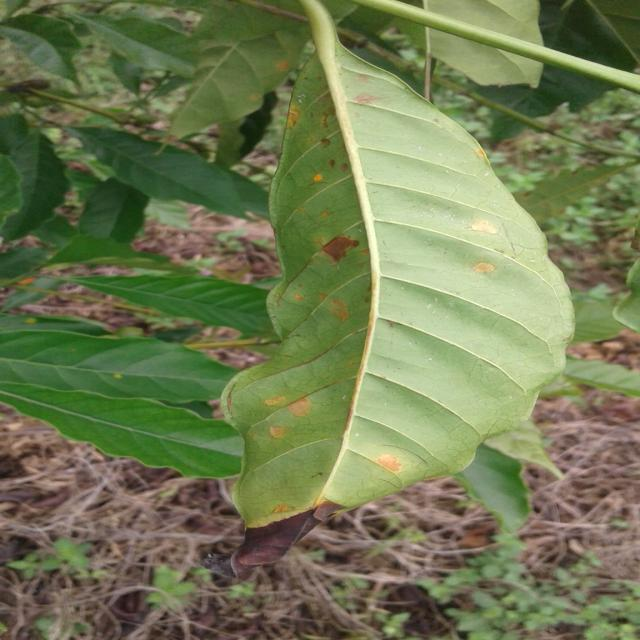Enfermedad-Roya: (226, 27, 576, 561)
